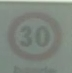limite 30: (1, 1, 71, 72)
